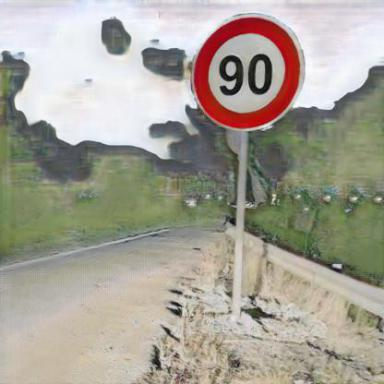Speed_limit_90: (193, 15, 304, 129)
